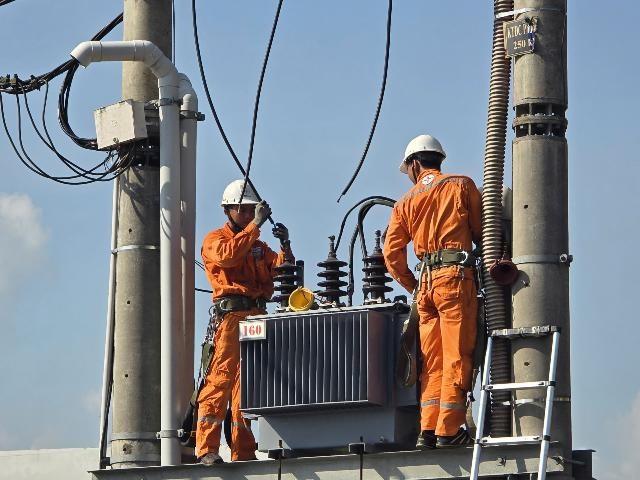gloves: (270, 220, 295, 255), (249, 198, 272, 229)
harness: (401, 246, 480, 270), (206, 295, 272, 315)
helmet: (390, 135, 451, 169), (217, 173, 266, 210)
shoes: (434, 424, 482, 452), (414, 427, 449, 452), (197, 451, 229, 469)
